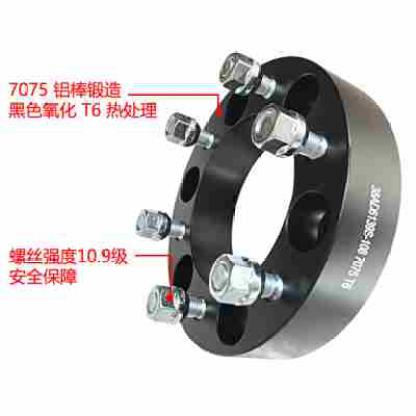FOD: (161, 50, 410, 360)
